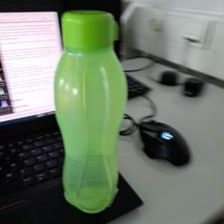bottle: (51, 7, 128, 212)
